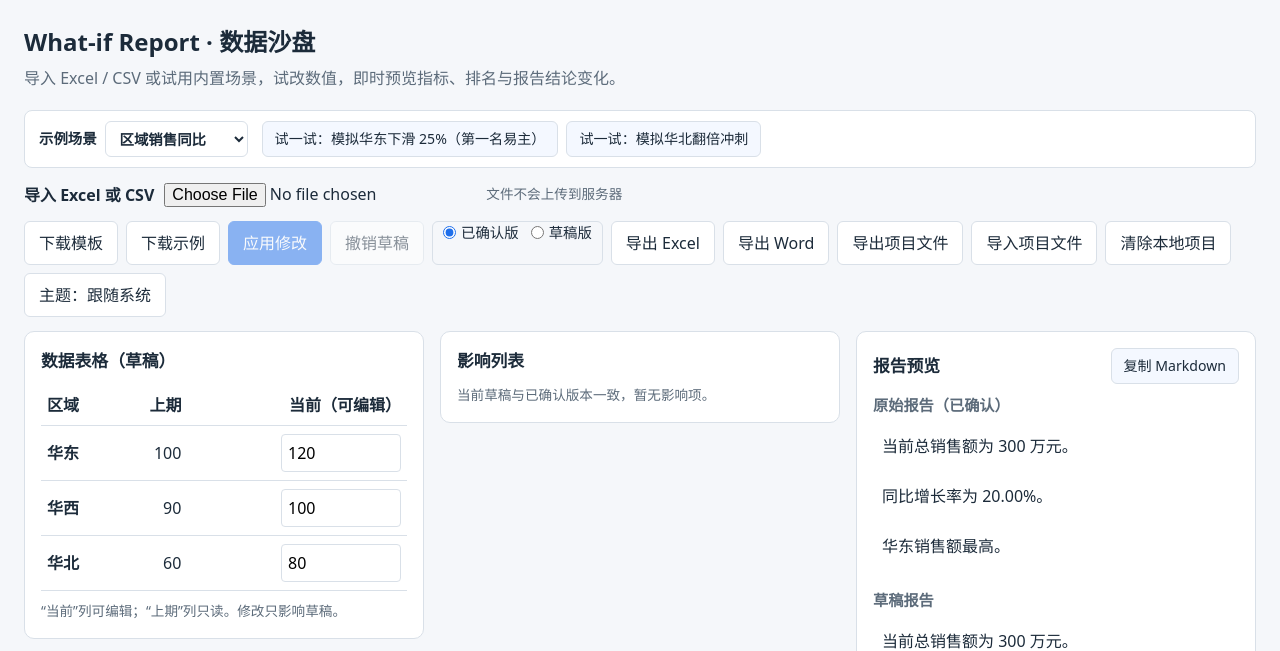
Test case: DemoBar and Markdown copy › applies a 1-click preset and highlights source cells immediately
Click the button "试一试：模拟华东下滑 25%（第一名易主）": (410, 139) [262, 121, 558, 157]
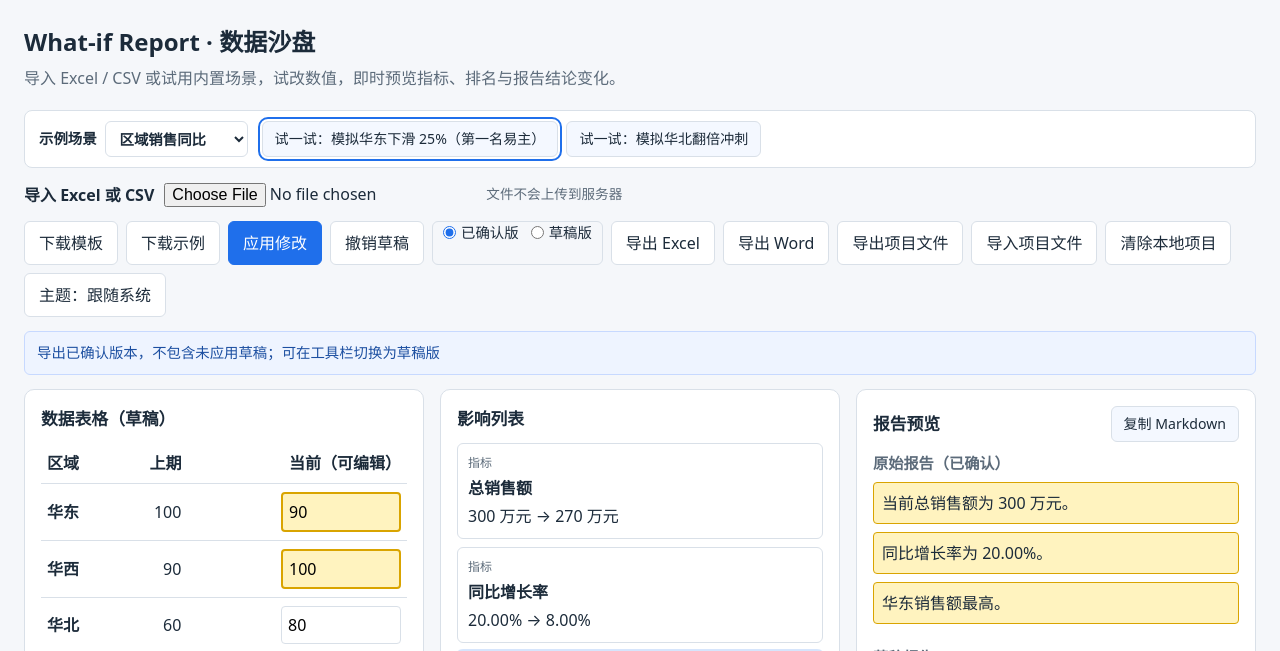
Expected: the number field named "华东当前销售额" holds "90", [281, 492, 401, 532]
Expected: the text "300 万元 → 270 万元" is shown, [468, 504, 619, 528]
